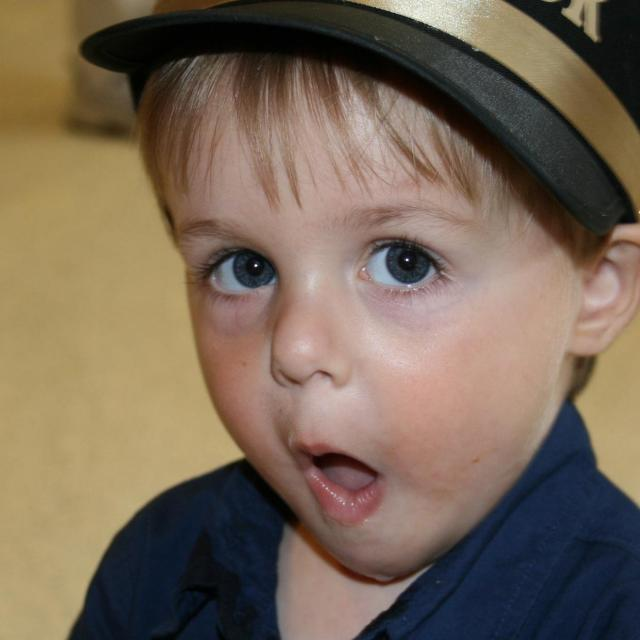surprised: (194, 94, 573, 570)
